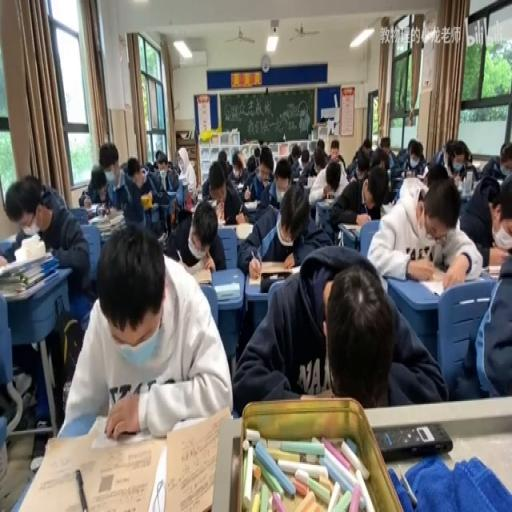calculator: (10, 417, 164, 509), (161, 405, 233, 509), (416, 268, 474, 298), (145, 442, 166, 512), (213, 282, 241, 300), (260, 258, 294, 272), (190, 267, 212, 286), (234, 222, 254, 240), (482, 263, 503, 279), (194, 194, 216, 208), (84, 200, 101, 218), (339, 222, 363, 232), (140, 192, 153, 209), (242, 199, 258, 212), (218, 220, 238, 230), (380, 200, 394, 214), (248, 270, 261, 284), (88, 214, 105, 224), (318, 196, 334, 205), (157, 232, 166, 246), (416, 170, 427, 180), (288, 265, 301, 273), (177, 174, 187, 184), (235, 180, 245, 190), (302, 183, 311, 192), (290, 176, 299, 184)
paper: (61, 220, 231, 436), (230, 244, 441, 414), (368, 171, 482, 290), (4, 174, 90, 302), (450, 240, 511, 401), (240, 181, 330, 276), (162, 195, 222, 270), (329, 158, 386, 235), (119, 155, 166, 228), (480, 171, 512, 270), (240, 149, 272, 209), (437, 139, 477, 185), (78, 164, 114, 209), (474, 140, 510, 184), (398, 138, 427, 179), (298, 145, 320, 181), (370, 145, 390, 175), (222, 152, 238, 185), (325, 161, 341, 189), (274, 162, 290, 189), (356, 148, 371, 176), (165, 164, 179, 192), (216, 148, 226, 166), (315, 156, 325, 174), (379, 135, 390, 151), (290, 142, 299, 161), (361, 136, 370, 154), (335, 155, 344, 169), (144, 162, 154, 174), (253, 146, 259, 165), (154, 150, 162, 164), (316, 138, 323, 154), (296, 156, 304, 170), (406, 149, 414, 162), (246, 163, 254, 175), (153, 161, 159, 169)
person: (374, 424, 451, 462), (260, 273, 291, 293)
